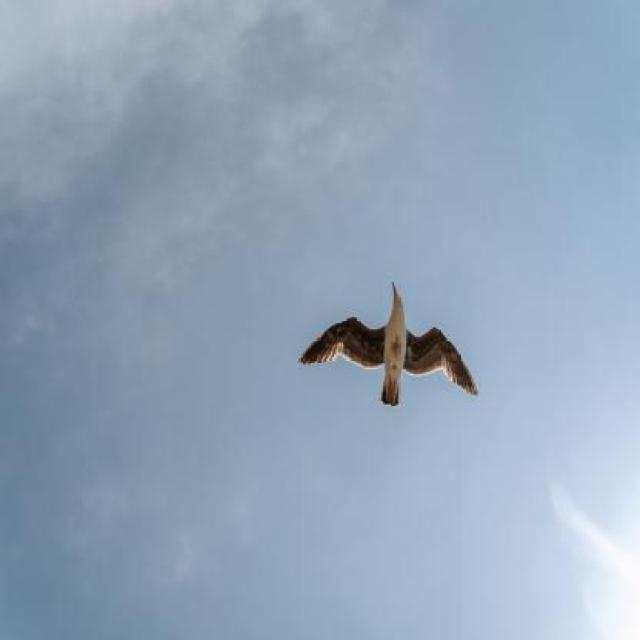bird: (300, 278, 478, 408)
